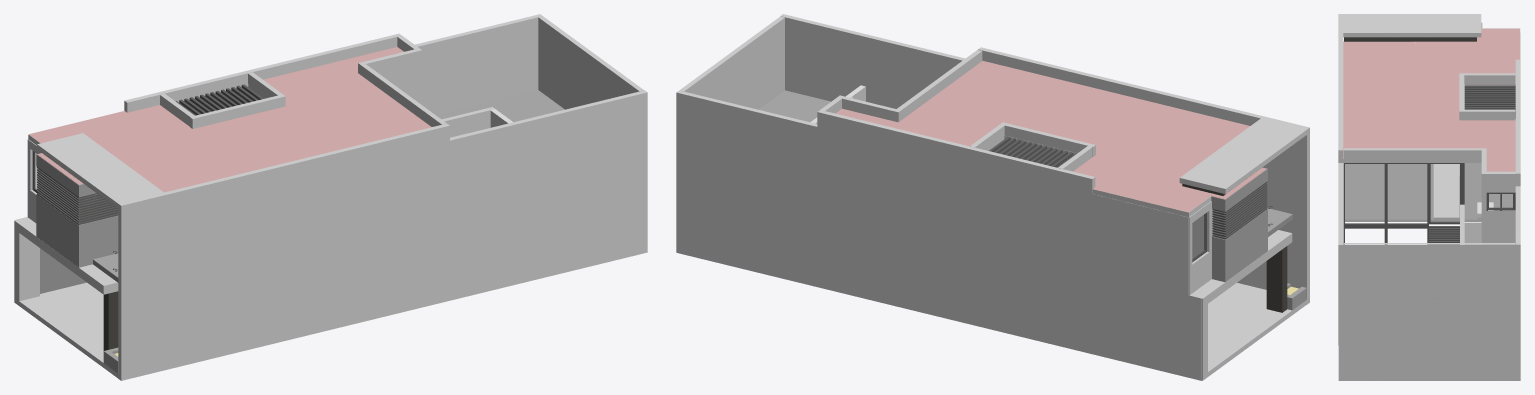
Rendered from vacia.gltf.
3 renders of one model, left to right at view 1: azimuth 30°, elevation 25°; view 2: azimuth 150°, elevation 25°; view 3: azimuth 270°, elevation 25°, orthographic. The views are drawn at different scales.
Visible parts, largest first — view 1: MuroExtBlanco_1, Impermeabilizante, MuroExtBlanco_1_2.1, AluminioNegro_1, PisoExt_1, PisoExt_1_6, PisoExt_1_4.3, MuroExtGris, PisoExt_2_9, PisoExt_1_6.1; view 2: MuroExtBlanco_1_2.1, MuroExtBlanco_1, Impermeabilizante, PisoExt_1_6, AluminioNegro_1, PisoExt_1, PisoExt_2_9, PisoExt_1_4, PisoExt_1_6.1, Cubo_3; view 3: MuroExtBlanco_1, Impermeabilizante, MuroInt_1_21, AluminioNegro_1, MuroExtBlanco_1_2.1, MuroInt_1_14, MuroExtNegro_1_2, Cubo_5, PisoExt_1, MuroInt_1_13, MuroInt_1_10, Cubo_6.
Part boxes in pixels (x1,y1,x2,y2): MuroExtBlanco_1: (14, 16, 647, 380); Impermeabilizante: (29, 47, 431, 192); MuroExtBlanco_1_2.1: (15, 14, 542, 220); AluminioNegro_1: (32, 151, 118, 271); PisoExt_1: (93, 90, 564, 277); PisoExt_1_6: (36, 194, 78, 267); PisoExt_1_4.3: (79, 215, 118, 267); MuroExtGris: (40, 248, 118, 293); PisoExt_2_9: (103, 291, 118, 350); PisoExt_1_6.1: (36, 154, 78, 197); MuroExtBlanco_1_2.1: (676, 90, 1201, 380); MuroExtBlanco_1: (679, 14, 1309, 380); Impermeabilizante: (835, 60, 1266, 212); PisoExt_1_6: (1225, 208, 1267, 281); AluminioNegro_1: (1192, 181, 1272, 262); PisoExt_1: (759, 90, 1292, 231); PisoExt_2_9: (1266, 246, 1287, 312); PisoExt_1_4: (1212, 236, 1225, 281); PisoExt_1_6.1: (1225, 169, 1267, 211); Cubo_3: (1092, 189, 1188, 217); MuroExtBlanco_1: (1338, 14, 1520, 380); Impermeabilizante: (1343, 23, 1519, 171); MuroInt_1_21: (1345, 164, 1433, 219); AluminioNegro_1: (1344, 163, 1515, 244); MuroExtBlanco_1_2.1: (1515, 33, 1520, 244); MuroInt_1_14: (1464, 163, 1477, 219); MuroExtNegro_1_2: (1344, 37, 1476, 41); Cubo_5: (1339, 159, 1481, 162); PisoExt_1: (1464, 222, 1481, 244); MuroInt_1_13: (1493, 194, 1515, 210); MuroInt_1_10: (1477, 172, 1493, 202); Cubo_6: (1482, 182, 1519, 186).
Size of what is drawn, in the model's own units: 2354 by 748 by 829.
